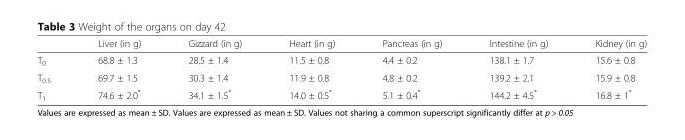table: (36, 37, 646, 101)
table column: (358, 37, 465, 101), (465, 37, 570, 101), (164, 37, 264, 101), (264, 37, 358, 101), (73, 37, 164, 101), (570, 37, 646, 101), (36, 37, 73, 101)
table column header: (36, 37, 646, 51)
table row: (36, 51, 646, 68), (36, 68, 646, 85), (36, 85, 646, 101), (36, 37, 646, 51)
